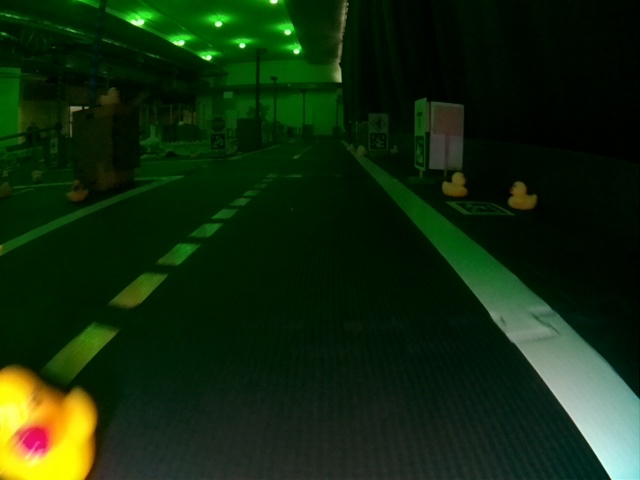Duckie: (1, 365, 98, 478), (508, 181, 536, 210), (442, 172, 467, 196), (66, 180, 88, 201), (100, 87, 119, 101)
Intersection sign: (415, 106, 425, 131), (373, 115, 386, 130)
QR code: (448, 201, 497, 217), (414, 136, 424, 167), (370, 132, 387, 149), (211, 134, 224, 149)
Stop sign: (210, 117, 225, 131)
